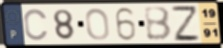6: (115, 6, 138, 43)
8: (51, 9, 78, 41)
B: (143, 6, 174, 42)
C: (23, 8, 50, 42)
O: (84, 7, 111, 42)
Z: (170, 5, 203, 43)
